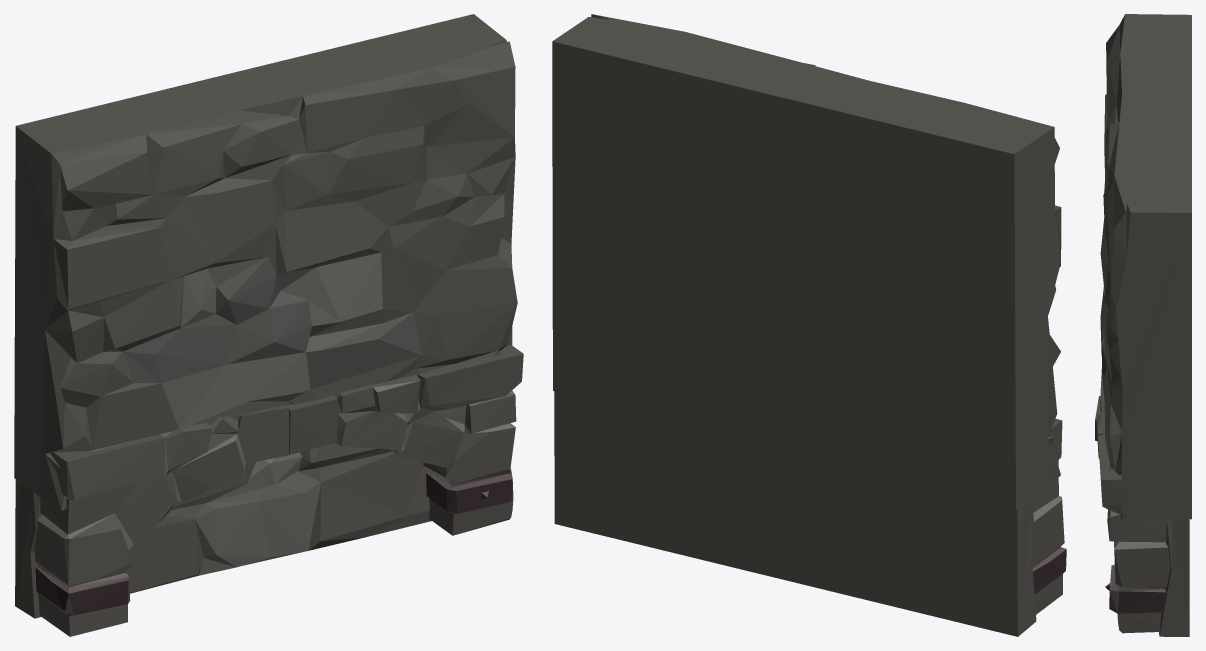
File: MDungeons_Walls_Arch_Low.FBX
3 renders of one model, left to right at view 1: azimuth 30°, elevation 25°; view 2: azimuth 150°, elevation 25°; view 3: azimuth 270°, elevation 25°, orthographic. The views are drawn at different scales.
Visible parts, largest first — view 1: MDungeons_Walls_Arch_Low_LOD0; view 2: MDungeons_Walls_Arch_Low_LOD0; view 3: MDungeons_Walls_Arch_Low_LOD0.
Boxes of the visible parts, x1,y1,x2,y2 form: MDungeons_Walls_Arch_Low_LOD0: (14,14,523,636); MDungeons_Walls_Arch_Low_LOD0: (552,14,1066,636); MDungeons_Walls_Arch_Low_LOD0: (1095,14,1191,636).
Size of what is drawn, in the model's own units: 6.05 by 6.01 by 1.24.
